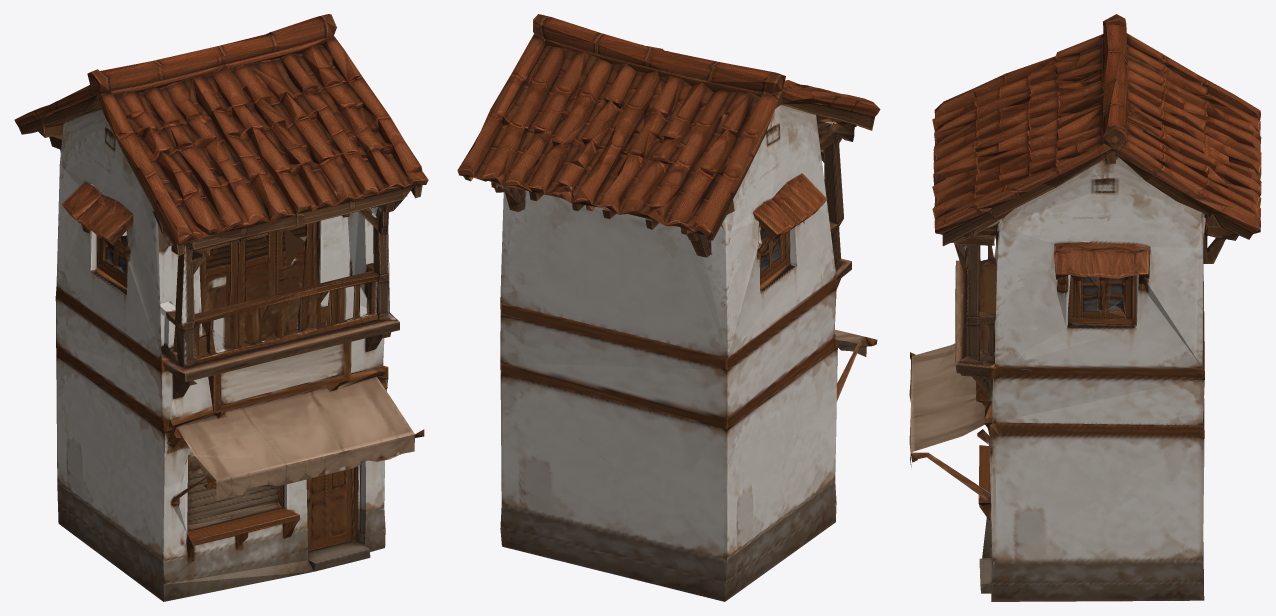
Rendered from TokoKota.glb.
3 views of the same model, side by side, from view 1: azimuth 30°, elevation 25°; view 2: azimuth 150°, elevation 25°; view 3: azimuth 270°, elevation 25° (orthographic). The views are drawn at different scales.
Visible parts, largest first — view 1: Mesh_0; view 2: Mesh_0; view 3: Mesh_0.
Boxes of the visible parts, x1,y1,x2,y2 form: Mesh_0: [14, 14, 428, 601]; Mesh_0: [457, 14, 880, 601]; Mesh_0: [909, 14, 1261, 601].
Size of the model in its own units: 1.12 by 1.9 by 1.26.
Materials: 1 (1 with a texture image).
